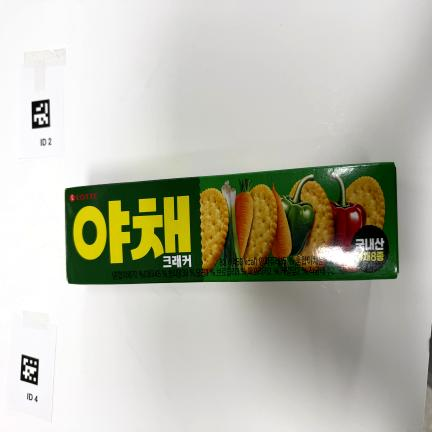cracker_vege: (64, 162, 398, 284)
